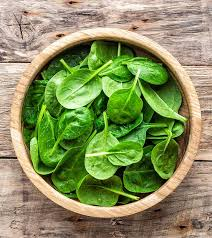spinach: (55, 61, 152, 175)
